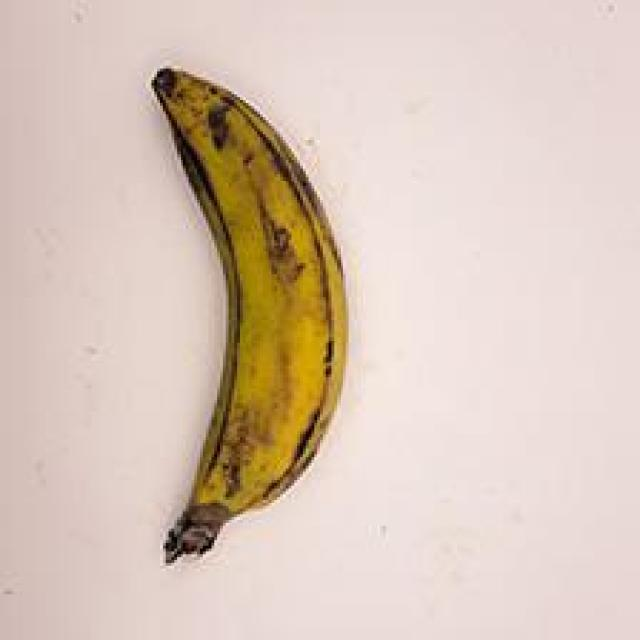Overripe: (109, 58, 383, 578)
